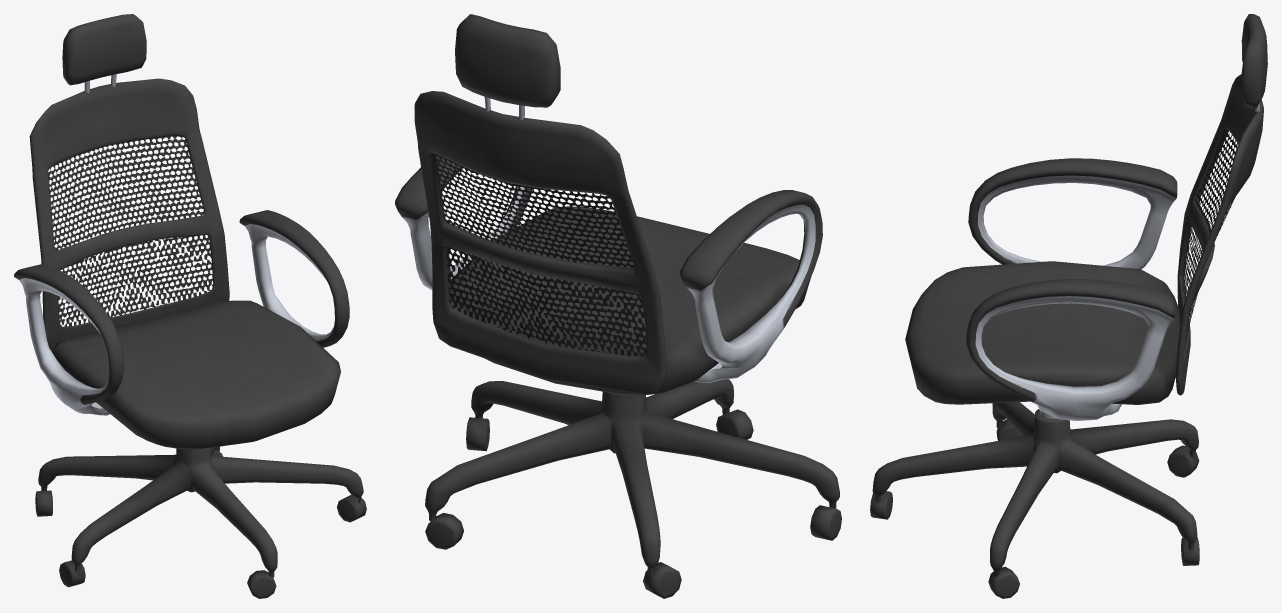
Rendered from chair_office.gltf.
3 views of the same model, side by side, from view 1: azimuth 30°, elevation 25°; view 2: azimuth 150°, elevation 25°; view 3: azimuth 270°, elevation 25° (orthographic). The views are drawn at different scales.
Visible parts, largest first — view 1: chair.016_desk_0.001; view 2: chair.016_desk_0.001; view 3: chair.016_desk_0.001.
Part boxes in pixels (x1=…): chair.016_desk_0.001: x1=14, y1=14, x2=366, y2=598; chair.016_desk_0.001: x1=395, y1=14, x2=841, y2=598; chair.016_desk_0.001: x1=870, y1=14, x2=1267, y2=598.
Bounding box in the file's own units: 0.7236 × 1.05 × 0.7708.
Materials: 1 (1 with a texture image).
